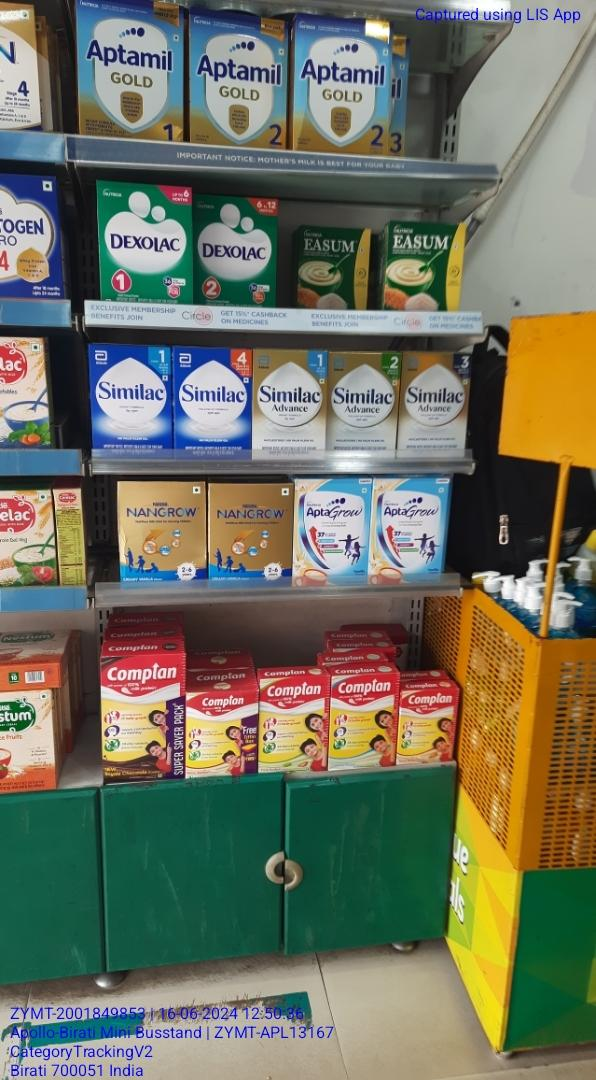COMPLAN_CHOCOLATE_1_KG_PACK: (101, 657, 184, 781)
COMPLAN_PISTA_BADAM_500_GMS_PACK: (260, 677, 328, 772), (331, 675, 394, 767)
